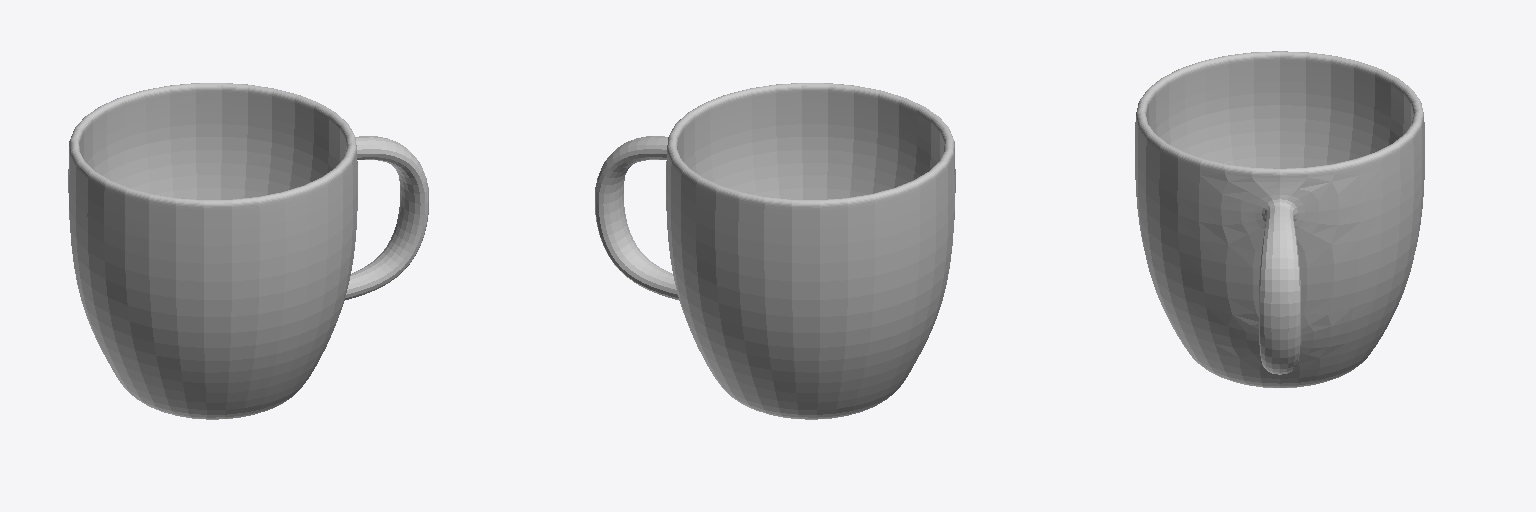
File: coffee-cup.obj
3 views of the same model, side by side, from view 1: azimuth 30°, elevation 25°; view 2: azimuth 150°, elevation 25°; view 3: azimuth 270°, elevation 25° (orthographic).
Parts seen in each view (by area): view 1: coffeemiscellany03-cup; view 2: coffeemiscellany03-cup; view 3: coffeemiscellany03-cup.
Part boxes in pixels (bbox=[...]): coffeemiscellany03-cup: bbox=[68, 83, 428, 419]; coffeemiscellany03-cup: bbox=[595, 83, 955, 419]; coffeemiscellany03-cup: bbox=[1135, 51, 1424, 387].
Size of the model in its own units: 0.1158 by 0.0818 by 0.0863.